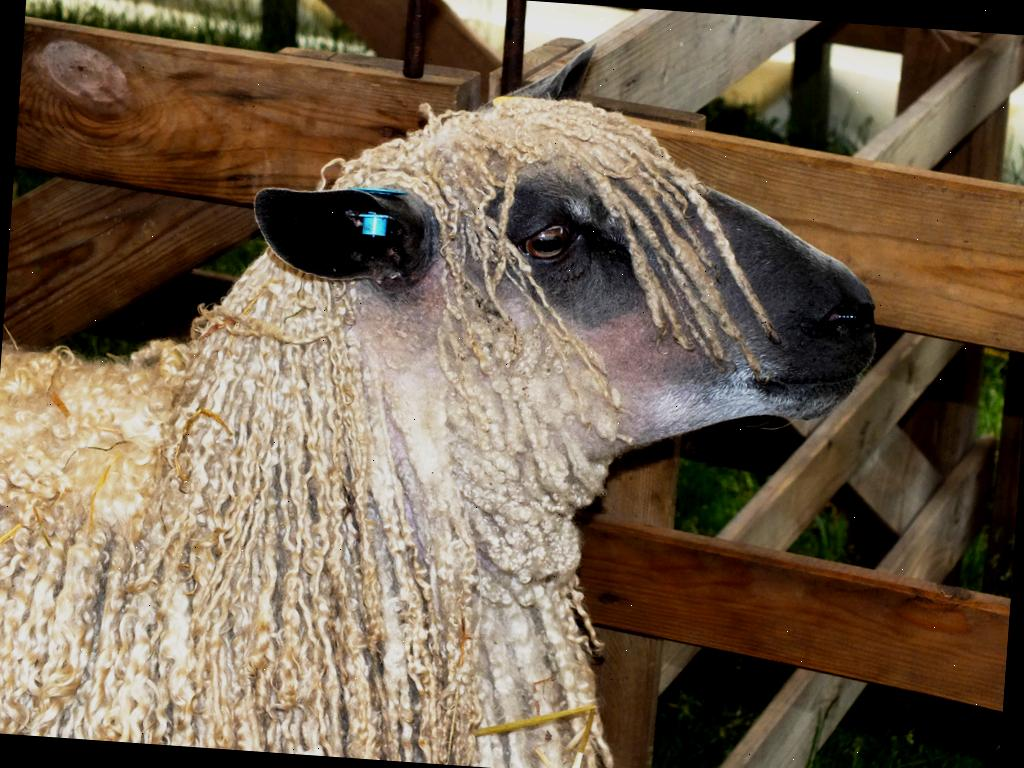Sheep: (0, 60, 893, 768)
